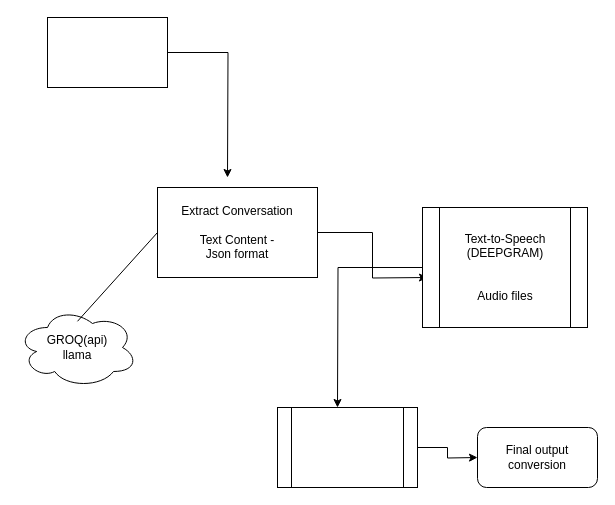
This 615x505 diagram has some shape labels left out. Each missing label, with the box of its shape:
Combined Audio files - one audio file: (276, 406, 418, 488)
Fetch Text -Input: URL: (46, 16, 168, 88)
